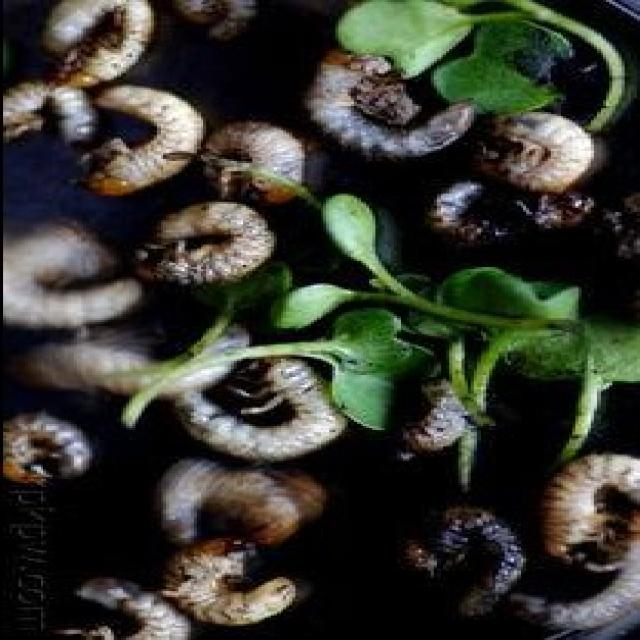grub: (407, 445, 640, 640), (312, 47, 490, 163), (175, 357, 350, 461), (7, 224, 155, 345), (39, 2, 178, 94), (83, 86, 190, 198), (172, 541, 298, 631), (167, 469, 303, 552), (141, 201, 267, 290), (207, 119, 324, 209), (495, 103, 602, 201), (17, 71, 103, 155), (394, 375, 471, 459), (11, 414, 97, 489)
